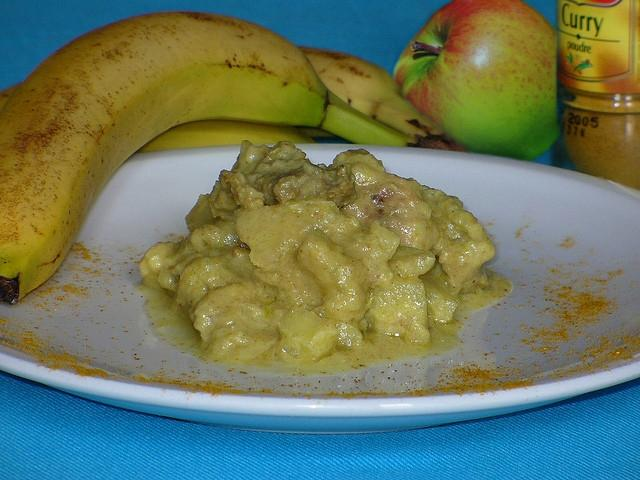apple: (392, 0, 562, 162)
banana: (0, 10, 422, 306), (0, 80, 316, 152), (296, 46, 464, 149)
